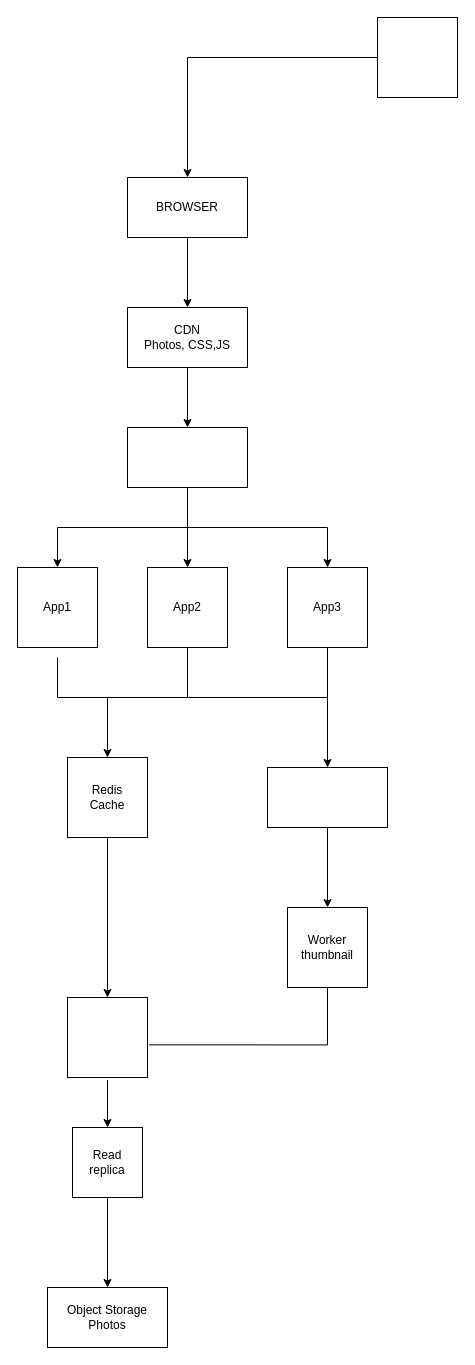
This 475x1365 diagram has some shape labels left out. Here are the shapes that lost their labels. From the top down, the centre of each, then its label:
point (417, 57): DNS
point (187, 457): Load Balancer
point (327, 797): Queue
point (107, 1037): Primary database
